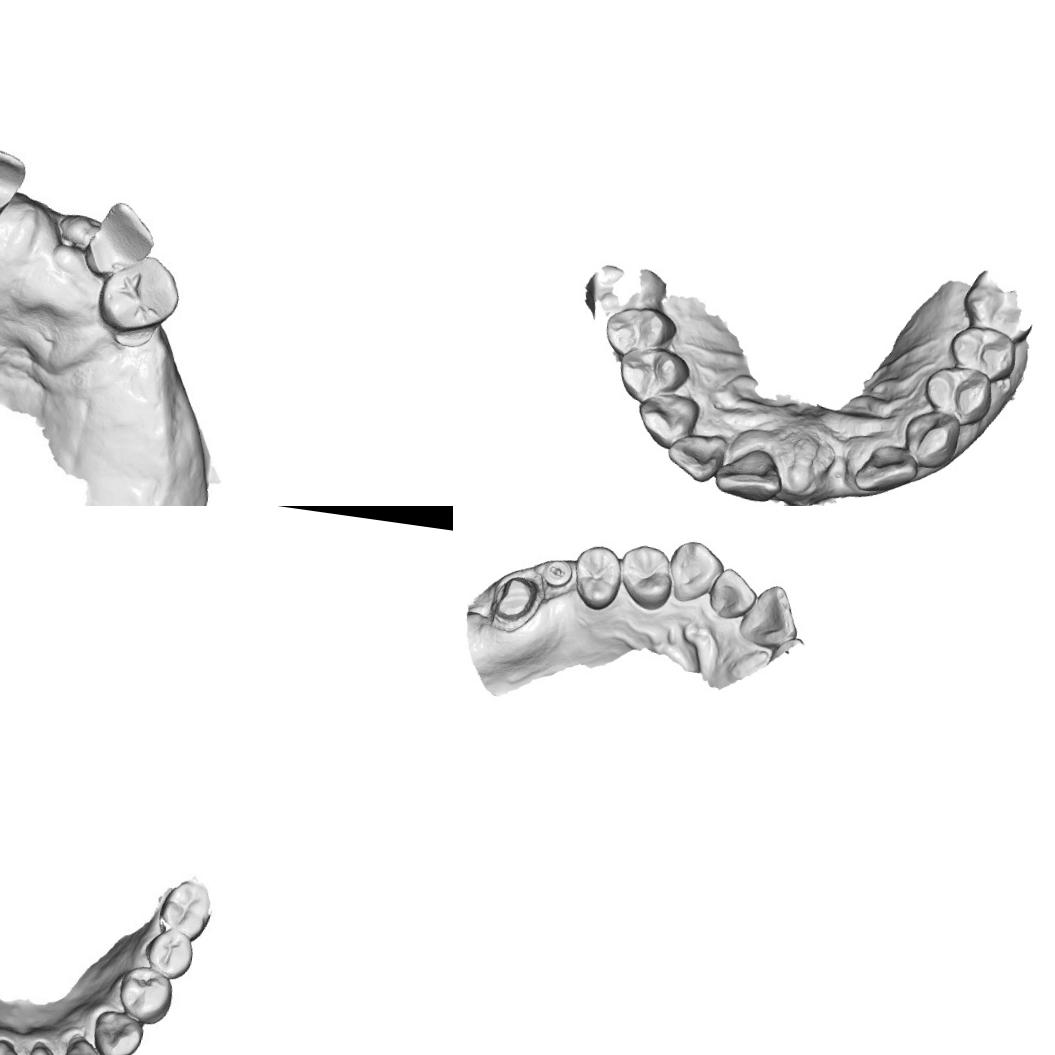canine: (633, 387, 702, 455), (663, 536, 728, 608), (897, 406, 963, 473), (88, 1007, 147, 1055)
crown: (486, 569, 546, 636)
implant_minus: (538, 554, 576, 592)
incisor: (96, 247, 184, 342), (78, 196, 156, 283), (734, 579, 804, 652), (710, 442, 788, 506), (850, 439, 924, 500), (662, 428, 722, 486), (706, 564, 762, 623), (0, 134, 32, 233), (18, 1036, 75, 1055), (62, 1037, 114, 1055)
molar: (956, 265, 1042, 346), (581, 258, 672, 320), (153, 876, 216, 939)
premolar: (920, 359, 1002, 430), (612, 342, 694, 406), (940, 321, 1020, 382), (600, 302, 681, 362), (614, 540, 679, 614), (568, 540, 626, 615), (116, 966, 176, 1026), (141, 924, 196, 984)
